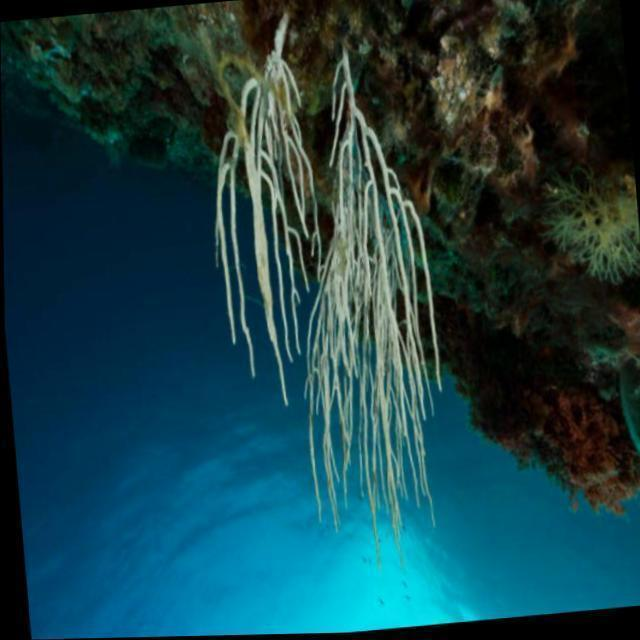Dead Coral: (183, 2, 469, 597)
